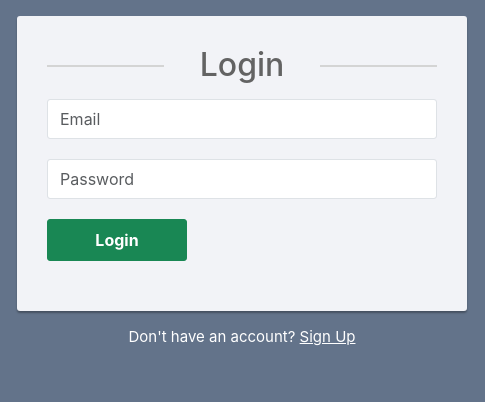
Scenario: LoginPage component › renders registration form and email validation
In the field with placeholder "Email": (242, 119) x1=47 y1=99 x2=437 y2=139, type "test@example@com"
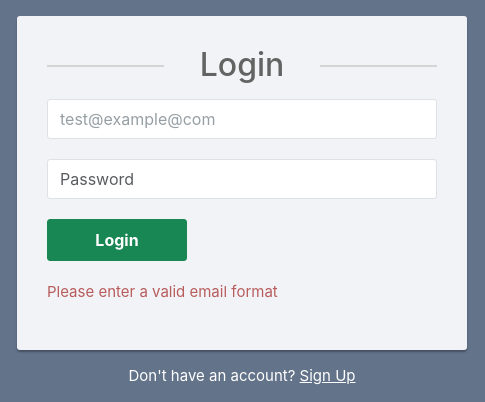
Now the text "Please enter a valid email format" is shown, box x1=47 y1=282 x2=278 y2=301
